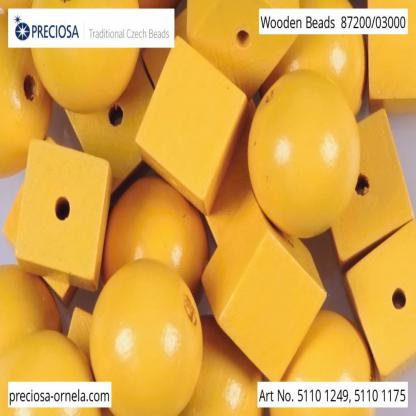Ball: (249, 69, 361, 240), (88, 263, 202, 415), (102, 174, 209, 305), (261, 0, 367, 118), (33, 0, 139, 113), (268, 308, 377, 415), (0, 10, 54, 176), (0, 330, 99, 415), (183, 317, 264, 415), (0, 266, 65, 358)
